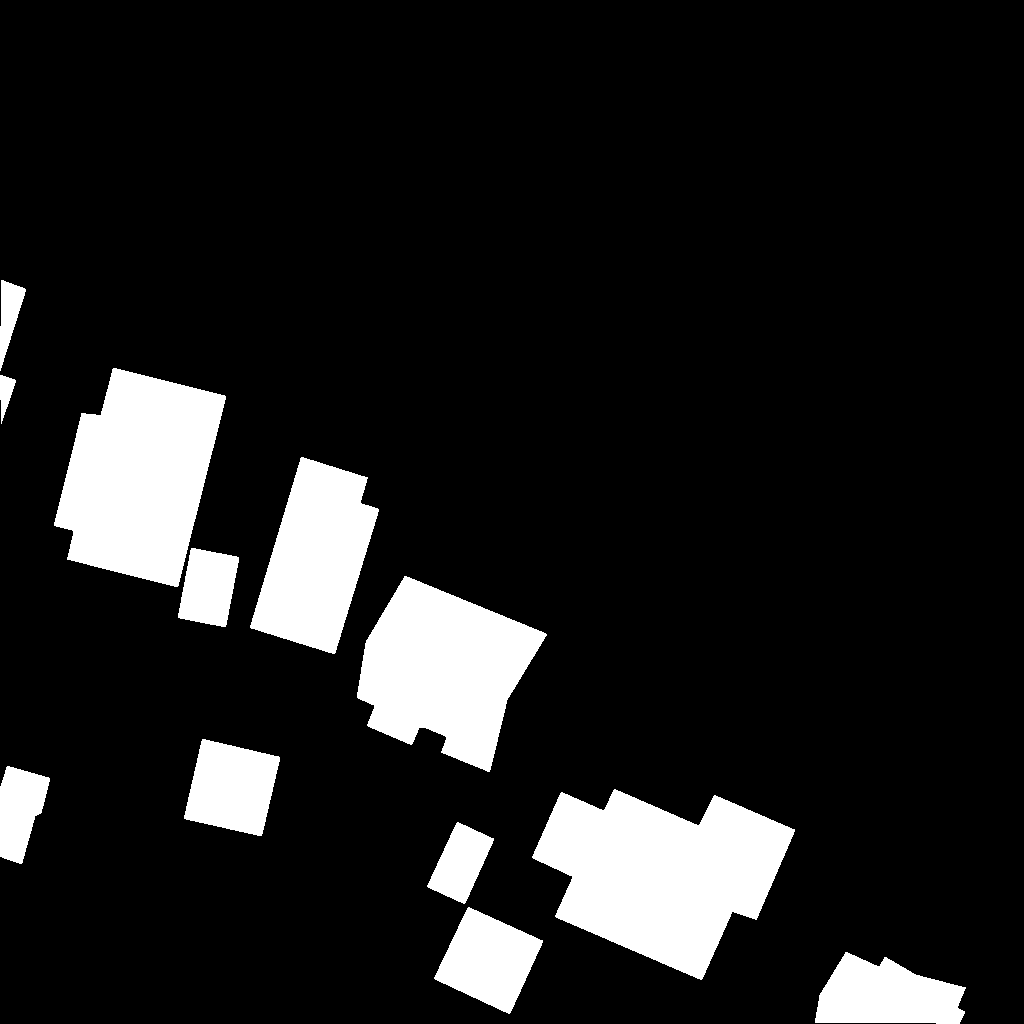building: (532, 789, 796, 981), (54, 368, 227, 588), (357, 576, 548, 773), (250, 457, 380, 655), (434, 907, 544, 1015), (815, 952, 967, 1024), (184, 739, 281, 837), (427, 822, 495, 905), (0, 766, 51, 865), (178, 548, 240, 628), (0, 280, 27, 426)
